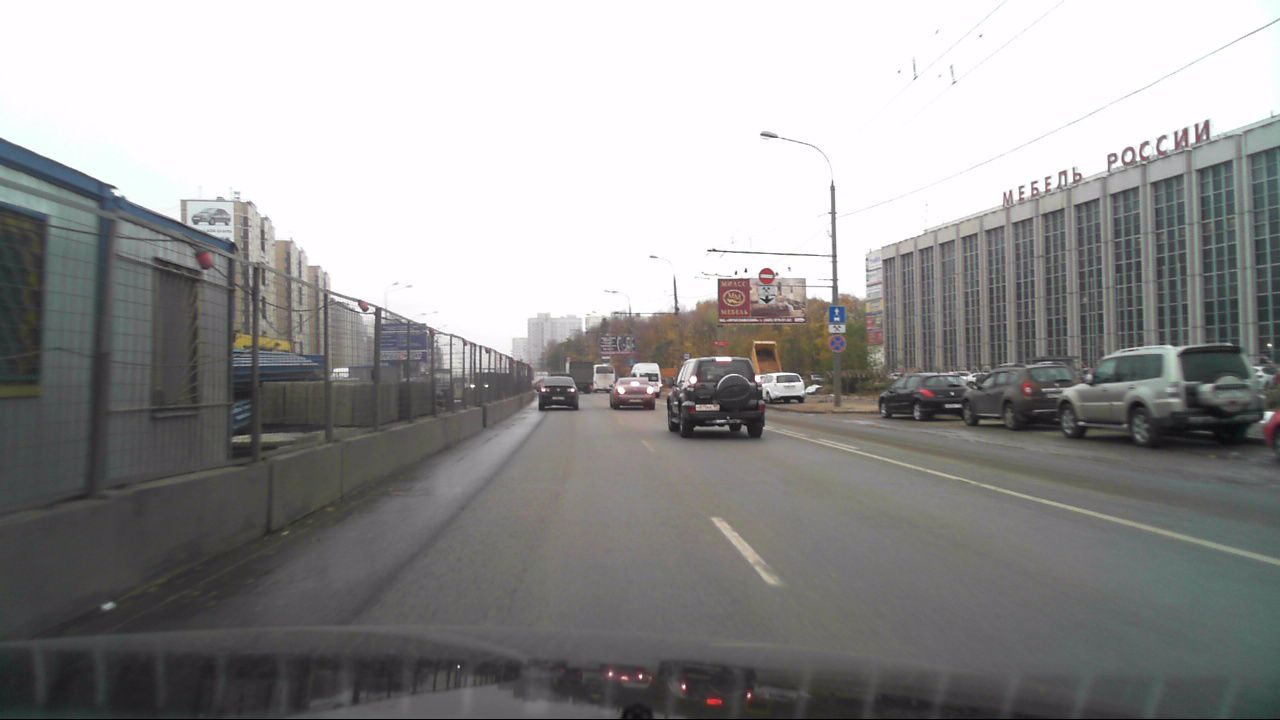No Parking: (828, 334, 847, 352)
